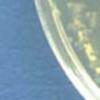yellow: (82, 42, 92, 60), (77, 30, 84, 41), (74, 17, 81, 26), (95, 65, 100, 74)
